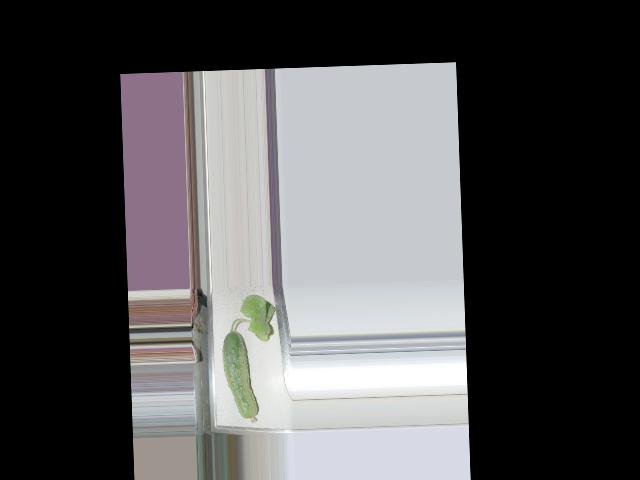cucumber: (221, 329, 258, 424)
